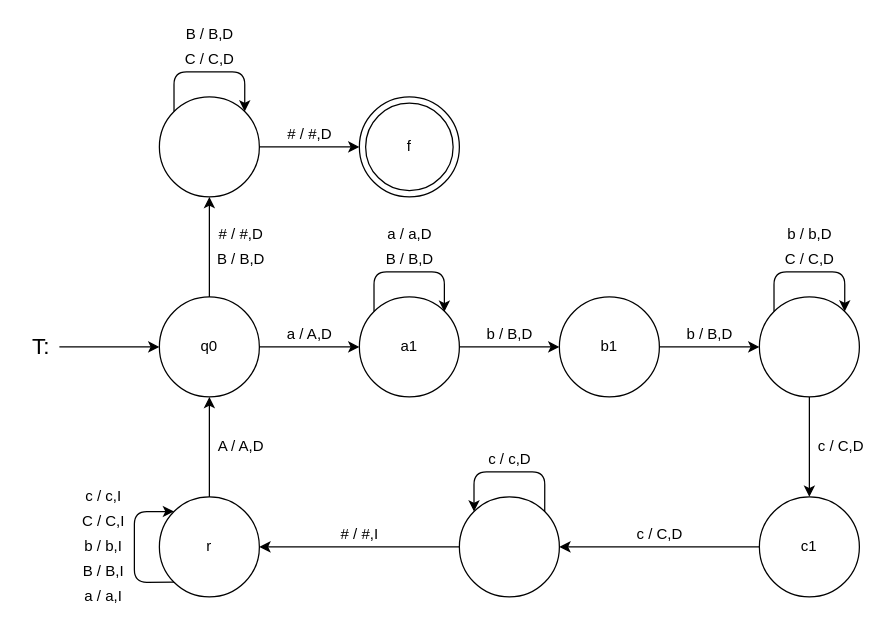
This 893x630 diagram has some shape labels left out. The box of each missing label's shape, as (x1, y1, x2, y2) in pixels:
b2: (758, 296, 859, 397)
c2: (458, 496, 559, 597)
qf: (158, 96, 259, 197)
